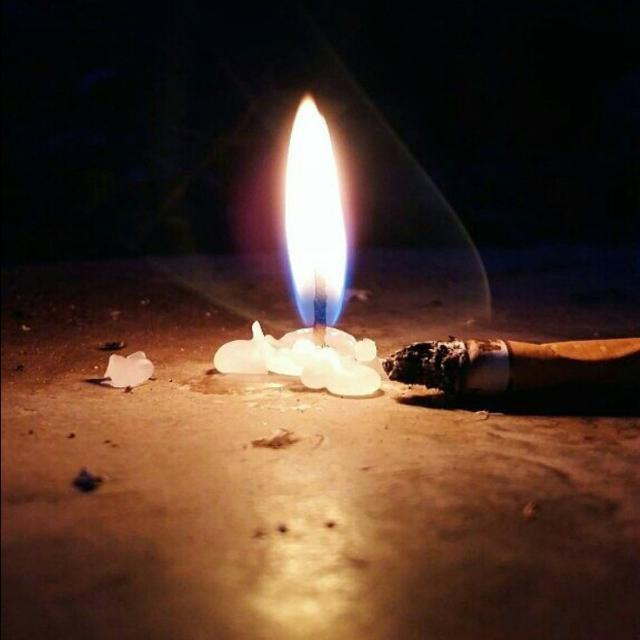fire: (285, 96, 347, 324)
